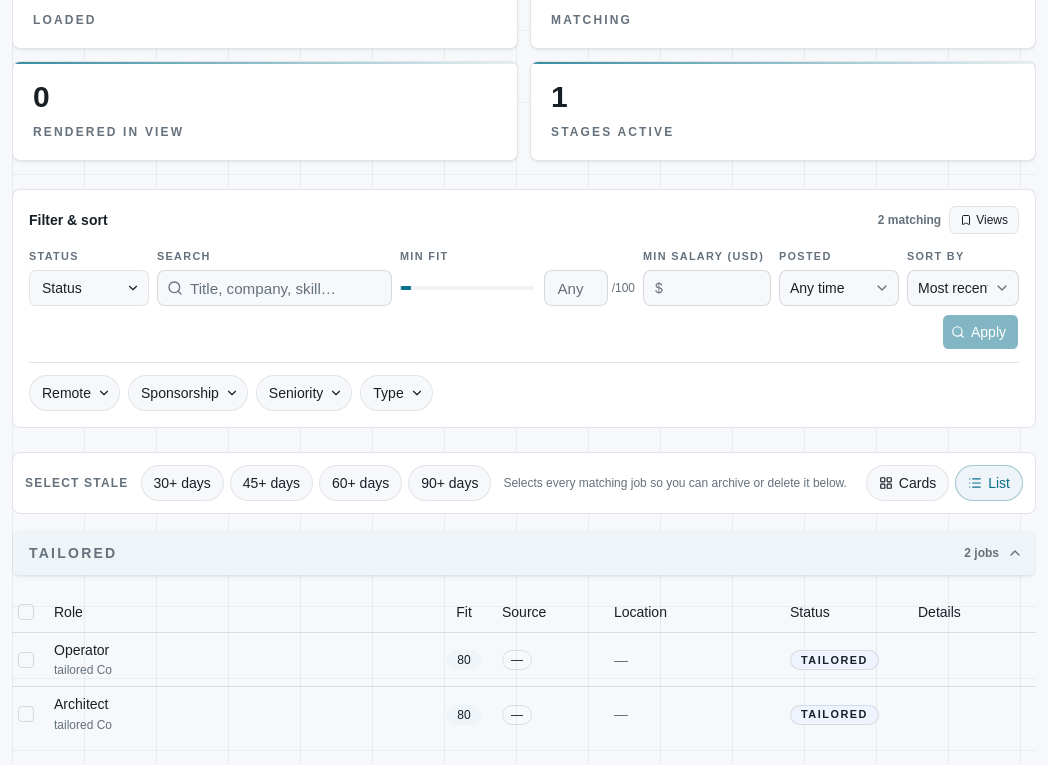
it: PipelineContainer › selects every job in a stage from the list header checkbox
(page scrolled)
Click the checkbox named "Select all loaded jobs": (26, 612) [18, 604, 34, 620]
(page scrolled)
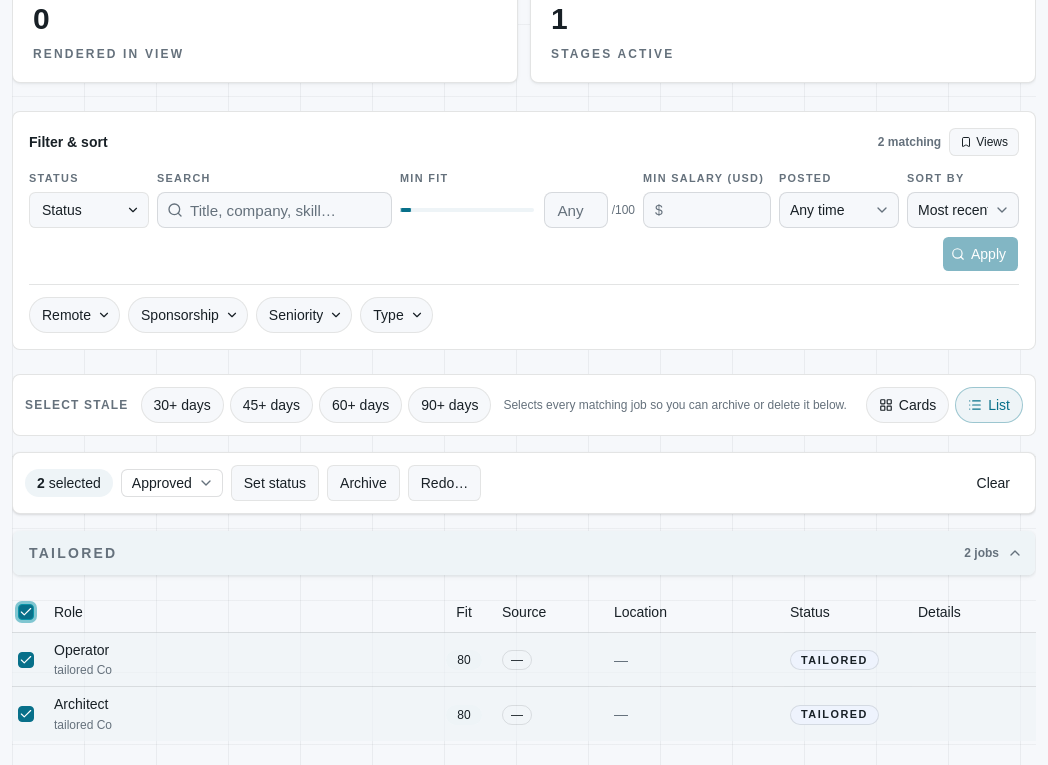
Check: the checkbox named "Select tailored Co Operator" is checked, box [18, 652, 34, 668]
Check: the checkbox named "Select tailored Co Architect" is checked, box [18, 706, 34, 722]
